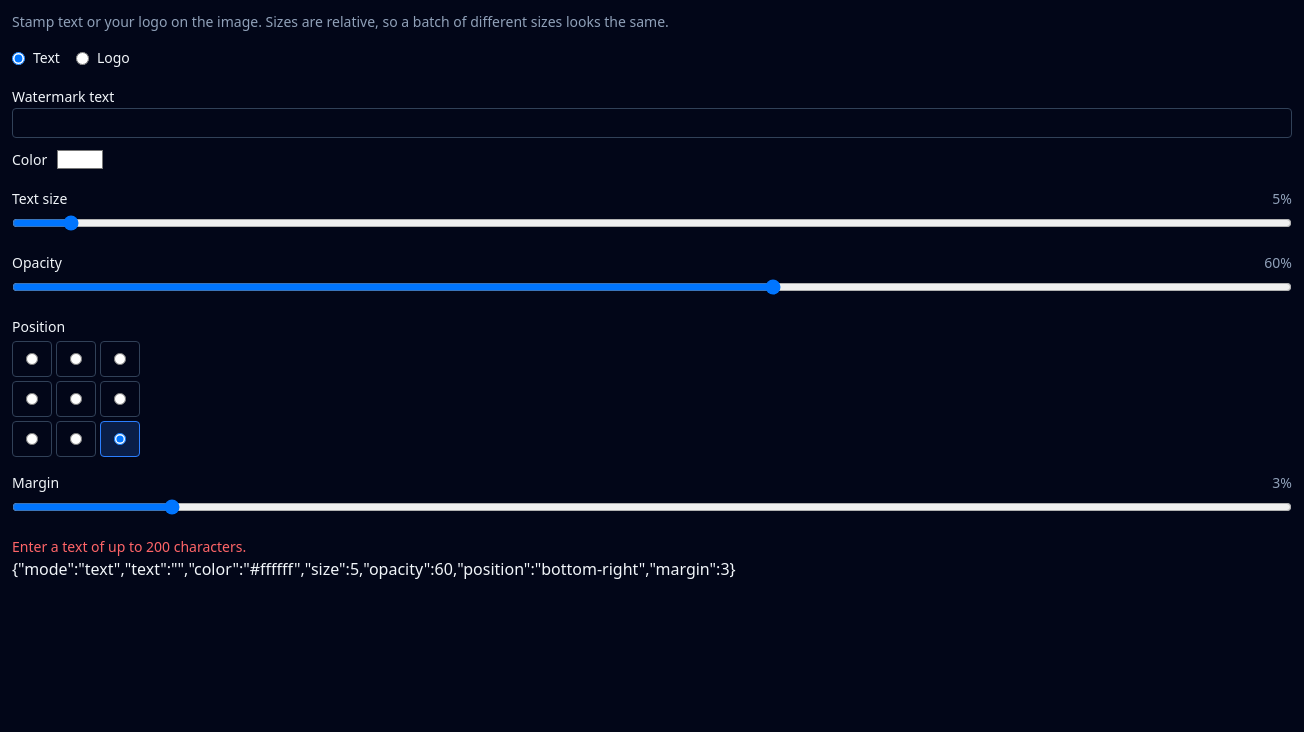
Test case: watermark panel › switches to logo mode and takes a file
Step 1. Click the radio button labelled "Logo" → [82, 58], box [76, 52, 89, 64]
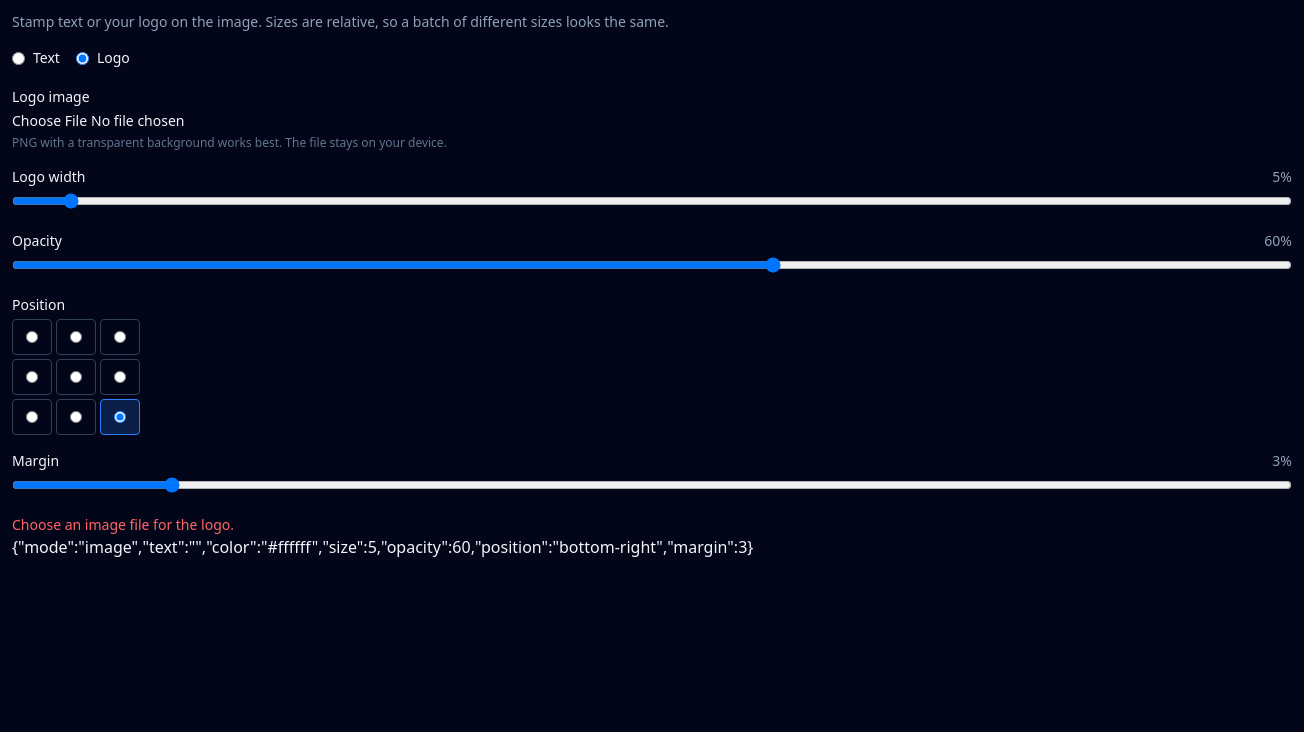
Result: the message shows "image file" at [12, 515, 234, 534]
